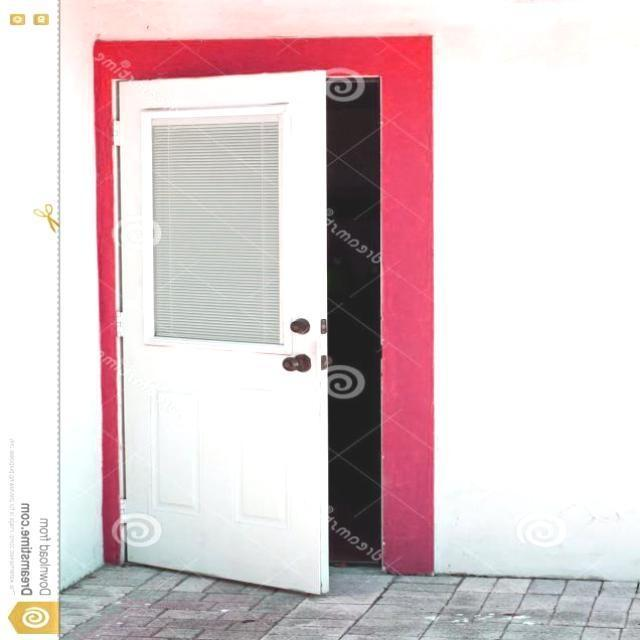door: (113, 69, 330, 595)
